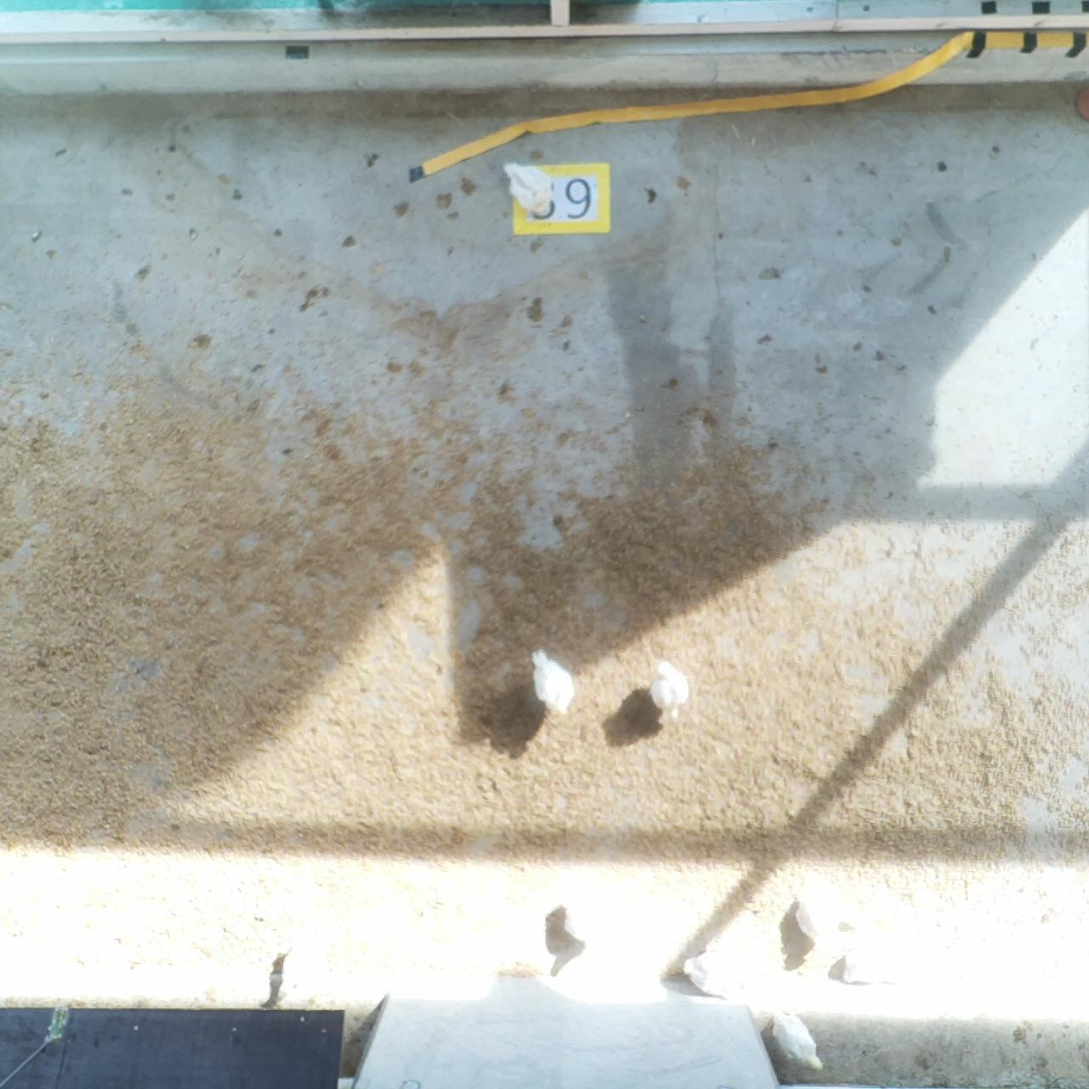chicken: (770, 1010, 824, 1069), (685, 950, 748, 997), (531, 650, 575, 713), (505, 162, 554, 217), (561, 893, 610, 945), (648, 663, 689, 724), (797, 890, 840, 945), (843, 949, 904, 987), (277, 945, 311, 1001)
